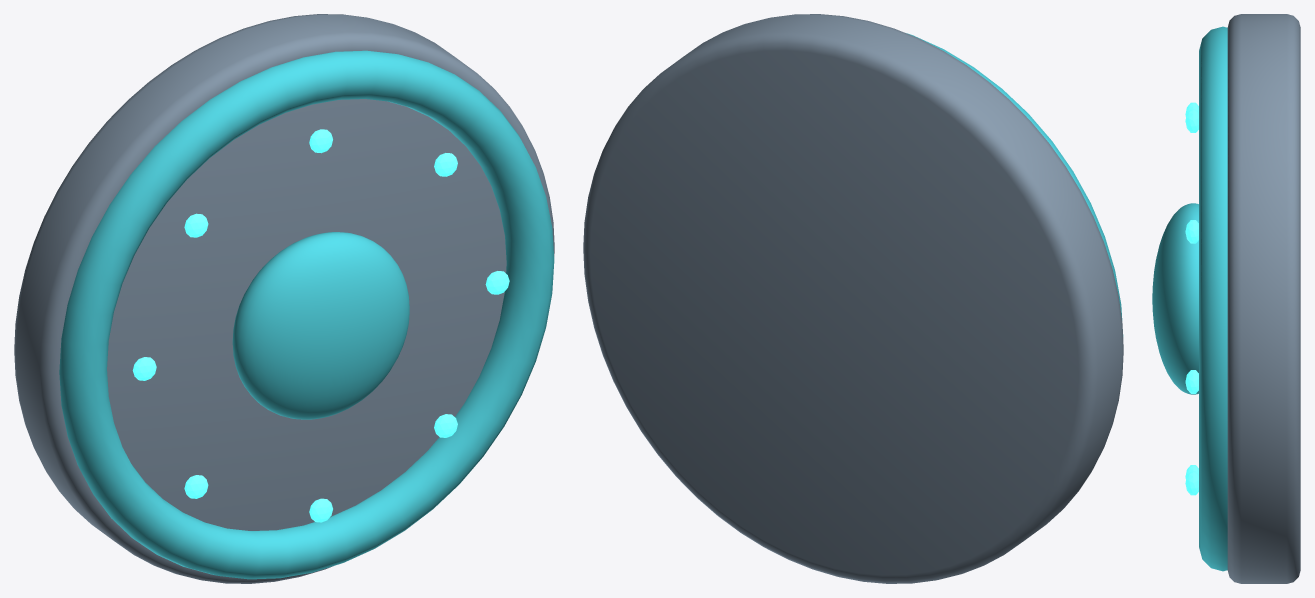
File: shield.glb
3 views of the same model, side by side, from view 1: azimuth 30°, elevation 25°; view 2: azimuth 150°, elevation 25°; view 3: azimuth 270°, elevation 25° (orthographic). The views are drawn at different scales.
Visible parts, largest first — view 1: SHIELD_BODY_PRIMARY, SHIELD_RIM_ACCENT, SHIELD_BOSS_ACCENT; view 2: SHIELD_BODY_PRIMARY, SHIELD_RIM_ACCENT; view 3: SHIELD_BODY_PRIMARY, SHIELD_RIM_ACCENT, SHIELD_BOSS_ACCENT, RIM_RIVET_EMISSIVE.007, RIM_RIVET_EMISSIVE, RIM_RIVET_EMISSIVE.001, RIM_RIVET_EMISSIVE.002.
Part boxes in pixels (<box>): SHIELD_BODY_PRIMARY: <box>14,14,554,583</box>; SHIELD_RIM_ACCENT: <box>59,50,554,579</box>; SHIELD_BOSS_ACCENT: <box>232,232,409,419</box>; SHIELD_BODY_PRIMARY: <box>583,14,1123,583</box>; SHIELD_RIM_ACCENT: <box>906,33,1123,336</box>; SHIELD_BODY_PRIMARY: <box>1227,14,1300,583</box>; SHIELD_RIM_ACCENT: <box>1199,26,1227,571</box>; SHIELD_BOSS_ACCENT: <box>1152,203,1198,394</box>; RIM_RIVET_EMISSIVE.007: <box>1185,471,1198,495</box>; RIM_RIVET_EMISSIVE: <box>1185,370,1198,393</box>; RIM_RIVET_EMISSIVE.001: <box>1185,220,1198,243</box>; RIM_RIVET_EMISSIVE.002: <box>1185,109,1198,132</box>.
Size of the model in its own units: 2.5 by 2.5 by 0.65.
